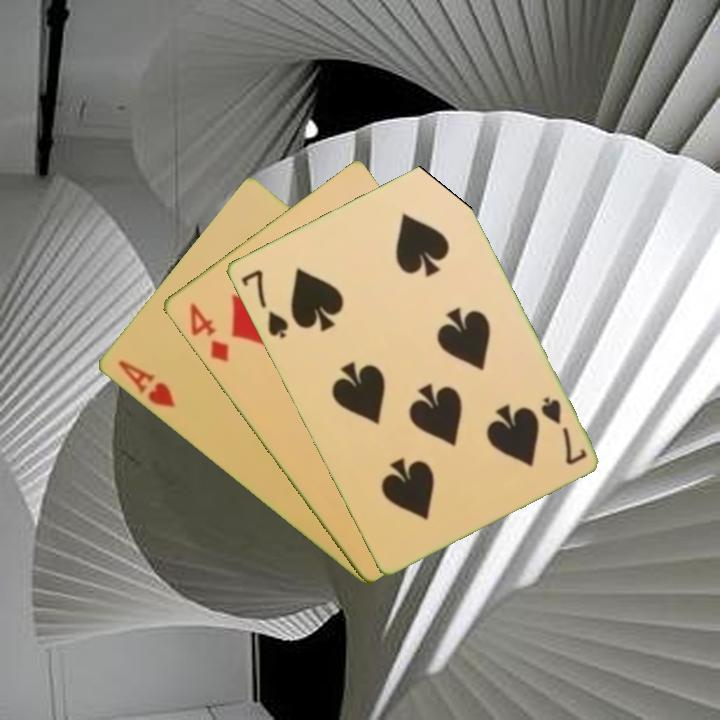4d: (185, 299, 232, 365)
7s: (236, 265, 291, 342), (537, 393, 590, 468)
Ah: (113, 356, 178, 411)
